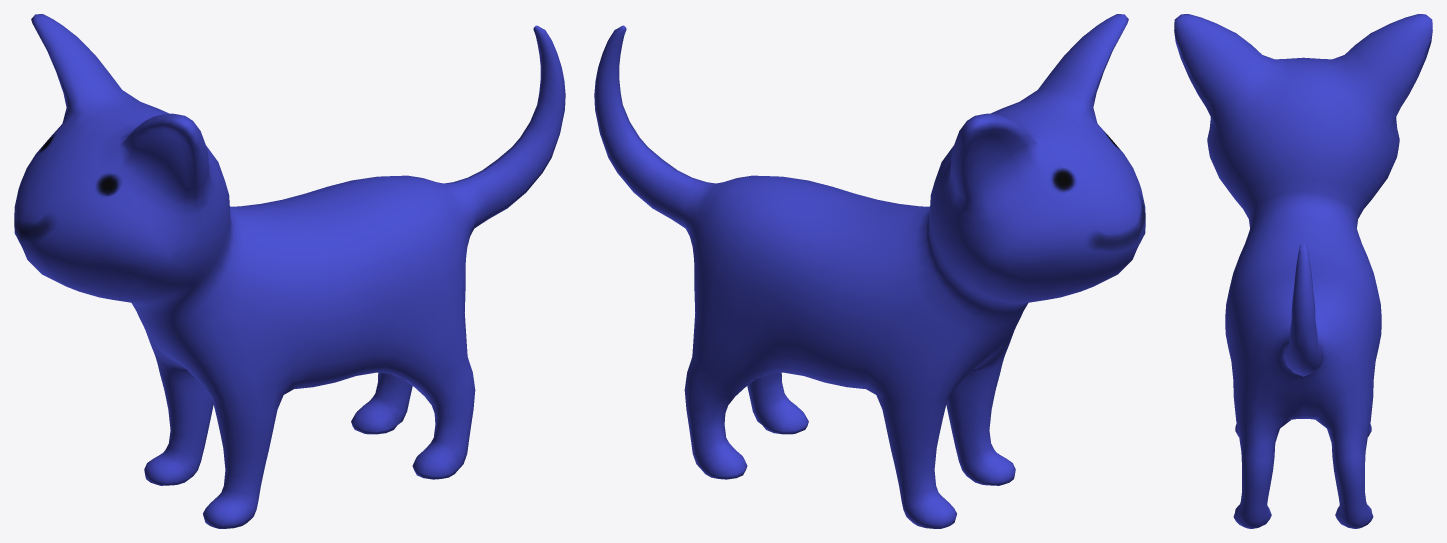
The model's file is cat.fbx.
3 renders of one model, left to right at view 1: azimuth 30°, elevation 25°; view 2: azimuth 150°, elevation 25°; view 3: azimuth 270°, elevation 25°, orthographic. The views are drawn at different scales.
Parts seen in each view (by area): view 1: root; view 2: root; view 3: root.
Part boxes in pixels (x1,y1,x2,y2): root: (14, 14, 565, 528); root: (594, 14, 1145, 528); root: (1174, 14, 1432, 528).
Bounding box in the file's own units: 0.2629 × 0.2106 × 0.1283.
Materials: 1 (1 with a texture image).
